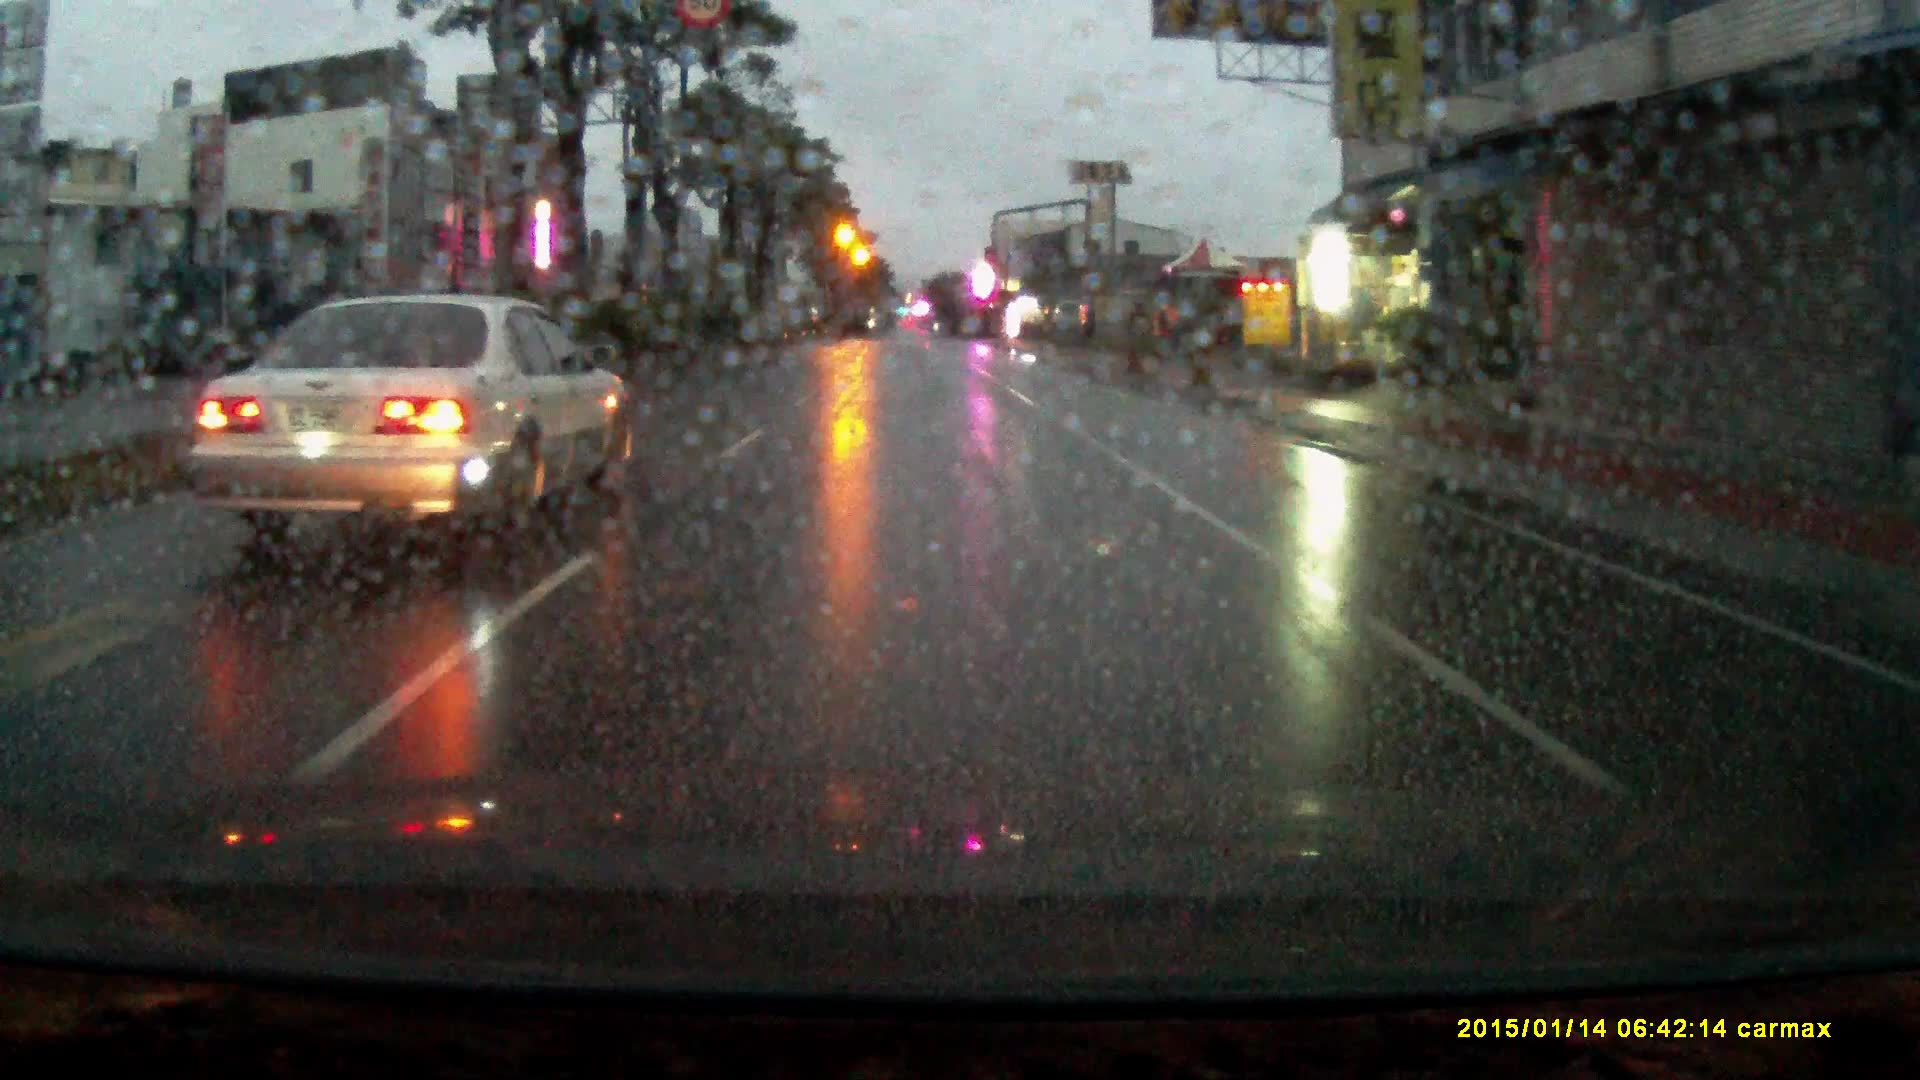vehicle: (187, 289, 638, 549)
